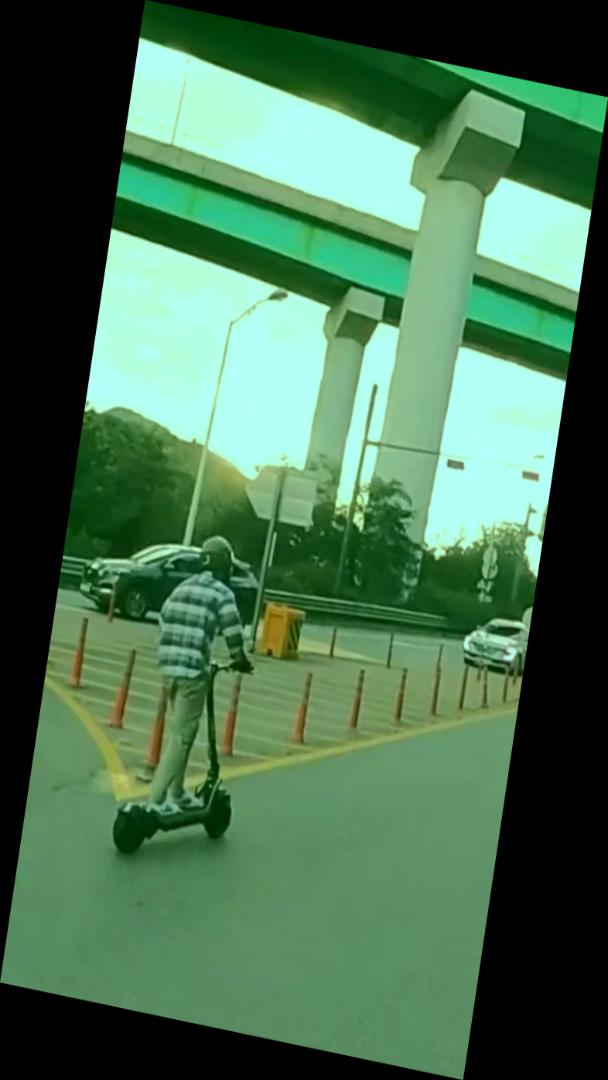helmet: (106, 517, 275, 881)
